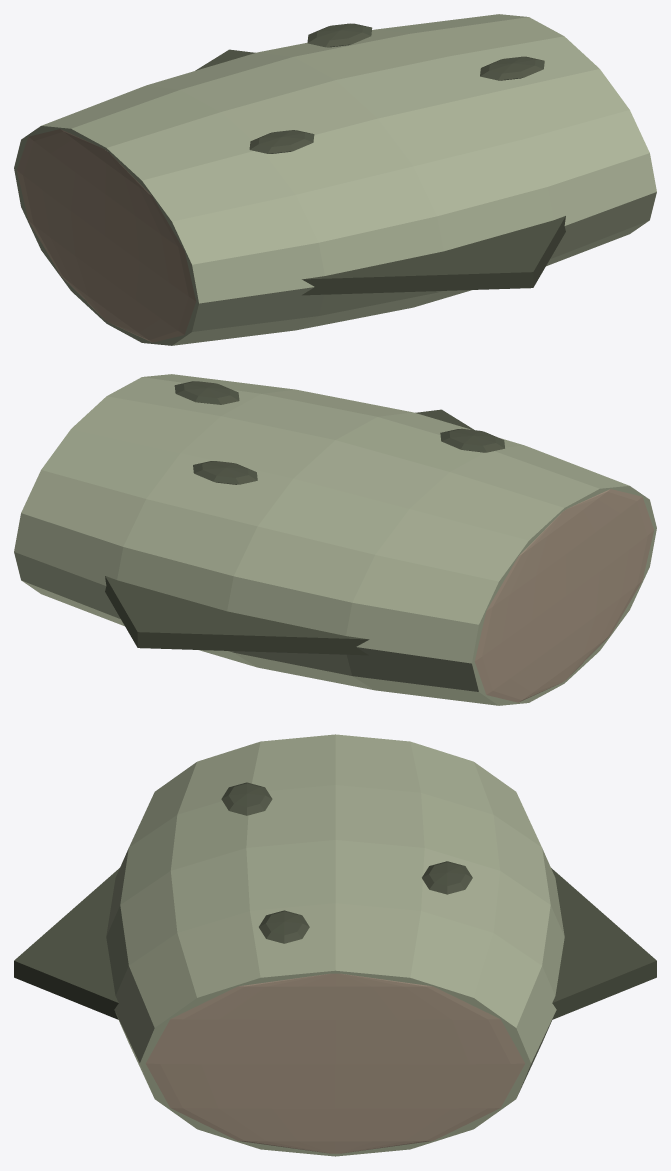
File: FishBelly.fbx
The picture shows the model from 3 angles, top to bottom: view 1: azimuth 30°, elevation 25°; view 2: azimuth 150°, elevation 25°; view 3: azimuth 270°, elevation 25°; orthographic projection. The views are drawn at different scales.
Visible parts, largest first — view 1: Skin__SpoiledFish.001, CutFace__SpoiledFishFlesh.001, BodyFins__SpoiledFishDark, SkinMottle__SpoiledFishDark; view 2: Skin__SpoiledFish.001, CutFace__SpoiledFishFlesh.001, BodyFins__SpoiledFishDark, SkinMottle__SpoiledFishDark; view 3: Skin__SpoiledFish.001, CutFace__SpoiledFishFlesh.001, BodyFins__SpoiledFishDark, SkinMottle__SpoiledFishDark.
Boxes of the visible parts, x1,y1,x2,y2 form: Skin__SpoiledFish.001: (14, 14, 656, 345); CutFace__SpoiledFishFlesh.001: (17, 129, 196, 342); BodyFins__SpoiledFishDark: (195, 49, 565, 295); SkinMottle__SpoiledFishDark: (249, 23, 544, 153); Skin__SpoiledFish.001: (14, 374, 656, 705); CutFace__SpoiledFishFlesh.001: (474, 489, 653, 702); BodyFins__SpoiledFishDark: (105, 409, 473, 655); SkinMottle__SpoiledFishDark: (174, 381, 504, 484); Skin__SpoiledFish.001: (106, 734, 564, 1156); CutFace__SpoiledFishFlesh.001: (145, 973, 525, 1153); BodyFins__SpoiledFishDark: (14, 868, 656, 1019); SkinMottle__SpoiledFishDark: (221, 782, 472, 943).
Size of what is drawn, in the model's own units: 0.1208 by 0.05 by 0.138.
